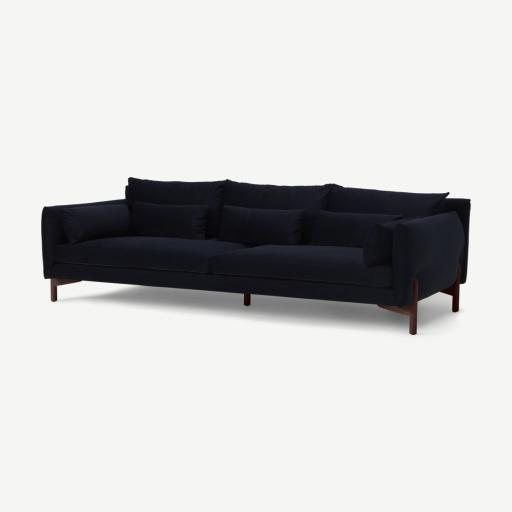back_cushion: (126, 178, 443, 241)
base: (54, 263, 398, 306)
left_arm: (382, 211, 464, 310)
legs: (379, 279, 418, 333), (51, 278, 80, 301), (443, 267, 459, 296), (243, 294, 250, 306), (452, 295, 456, 308)
right_arm: (42, 201, 129, 277)
seat_cushion: (57, 237, 391, 287)
two-seater: (0, 0, 511, 512)
